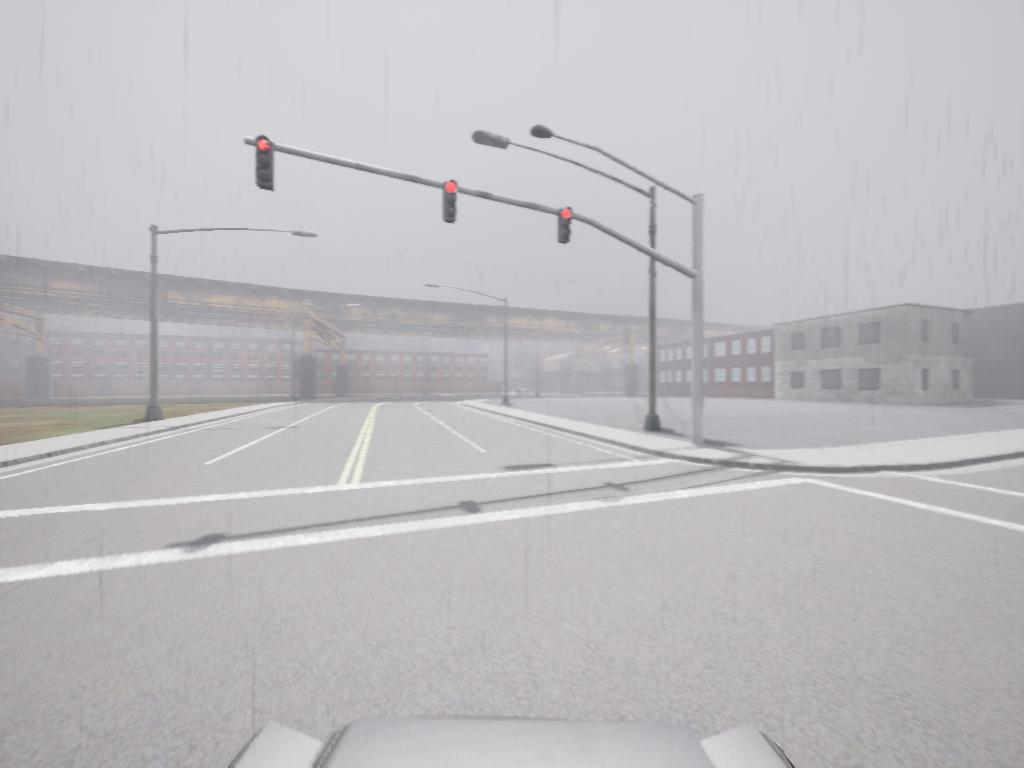traffic_light: (255, 135, 277, 192), (443, 181, 461, 223), (558, 210, 574, 247)
